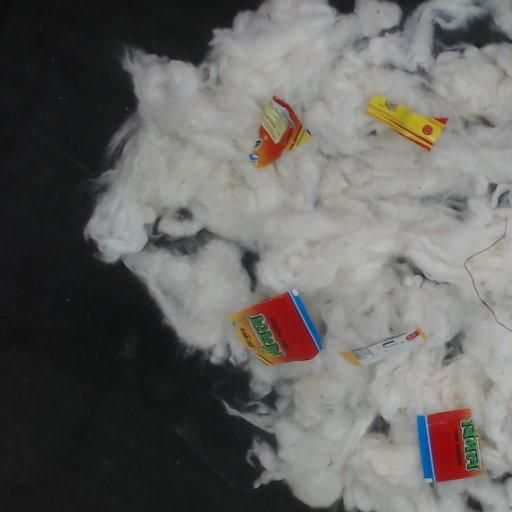cotton: (84, 0, 511, 511)
packet: (232, 290, 322, 364), (417, 409, 482, 482), (249, 96, 311, 168), (367, 96, 447, 150), (342, 329, 427, 365)
thread: (464, 218, 511, 333)
